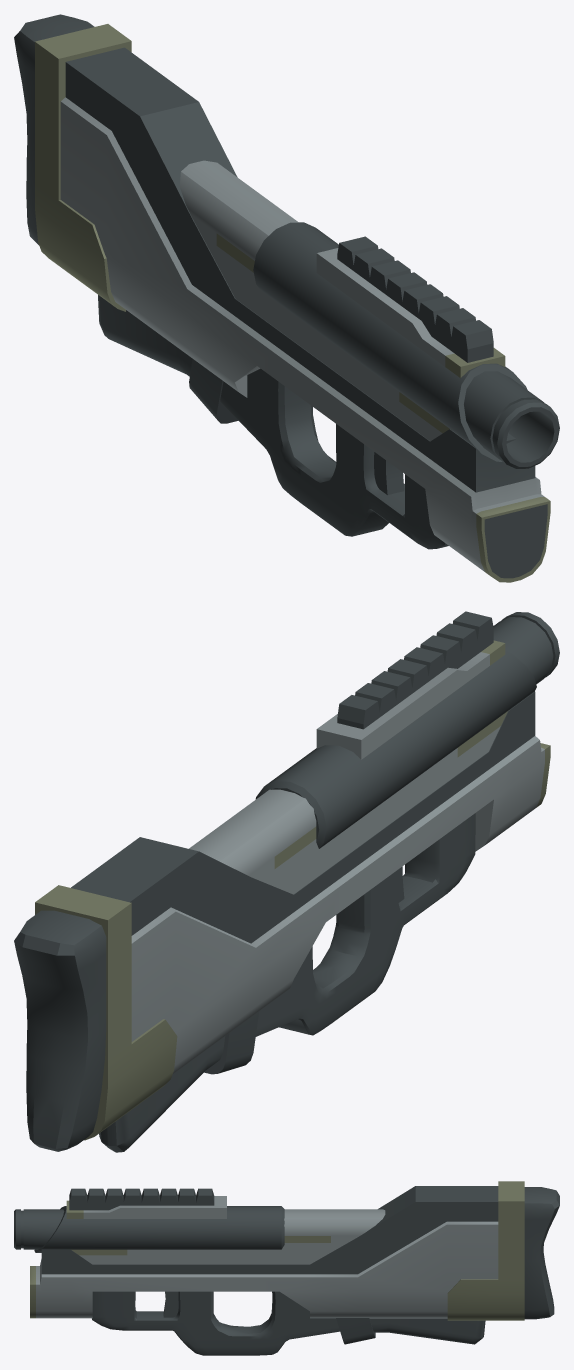
The model's file is launcher.glb.
3 views of the same model, one above another, from view 1: azimuth 30°, elevation 25°; view 2: azimuth 150°, elevation 25°; view 3: azimuth 270°, elevation 25° (orthographic). The views are drawn at different scales.
Visible parts, largest first — view 1: launcher; view 2: launcher; view 3: launcher.
Boxes of the visible parts, x1,y1,x2,y2 form: launcher: [14, 14, 559, 582]; launcher: [14, 611, 559, 1152]; launcher: [14, 1181, 559, 1355].
Size of the model in its own units: 0.0716 by 0.2688 by 0.83.
